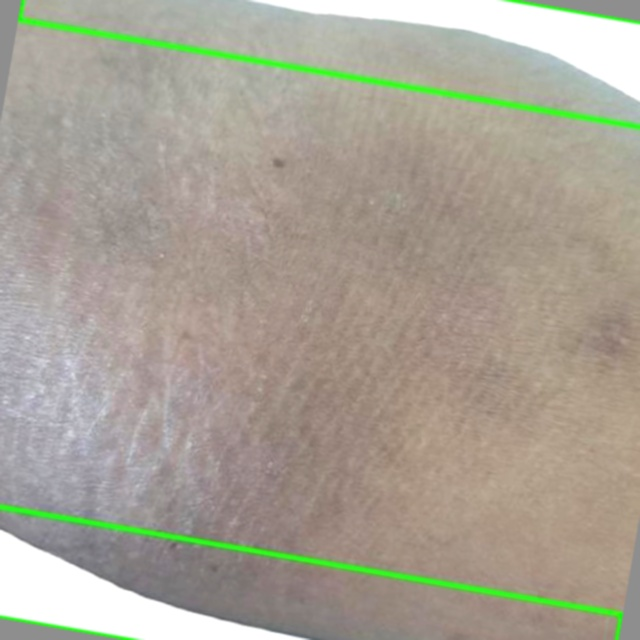Contact Dermatitis: (0, 506, 621, 639), (18, 0, 639, 127)
